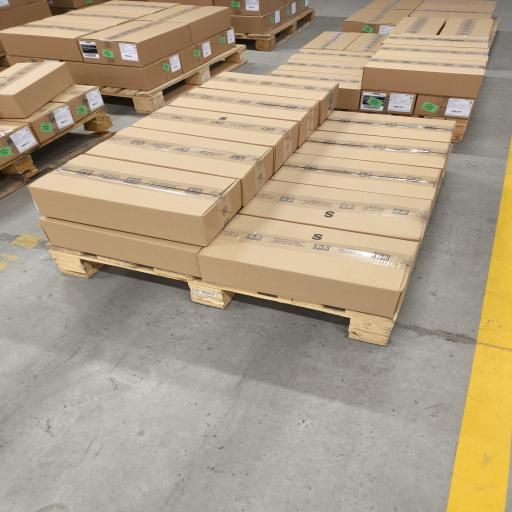pallet: (47, 243, 397, 345), (0, 107, 114, 198), (99, 45, 247, 113), (0, 132, 115, 199), (0, 107, 112, 175), (236, 9, 314, 51), (392, 114, 468, 143), (489, 18, 500, 48), (0, 53, 9, 67)
